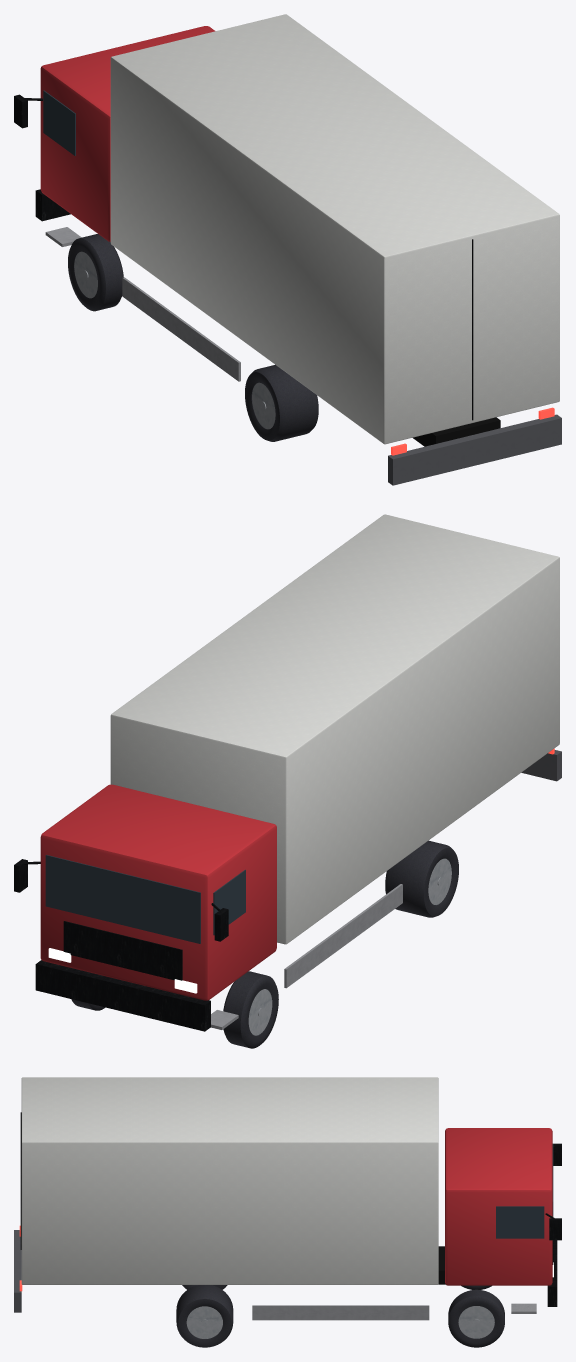
Rendered from truck_box_7t5_red.gltf.
3 renders of one model, top to bottom at view 1: azimuth 30°, elevation 25°; view 2: azimuth 150°, elevation 25°; view 3: azimuth 270°, elevation 25°, orthographic. The views are drawn at different scales.
Parts seen in each view (by area): view 1: truck_box_7t5_red; view 2: truck_box_7t5_red; view 3: truck_box_7t5_red.
Boxes of the visible parts, bbox=[...] form: truck_box_7t5_red: bbox=[14, 14, 561, 485]; truck_box_7t5_red: bbox=[14, 514, 561, 1048]; truck_box_7t5_red: bbox=[14, 1077, 561, 1347].
Bounding box in the file's own units: 2.87 × 3.6 × 8.67.
13 materials, 8 textured.
